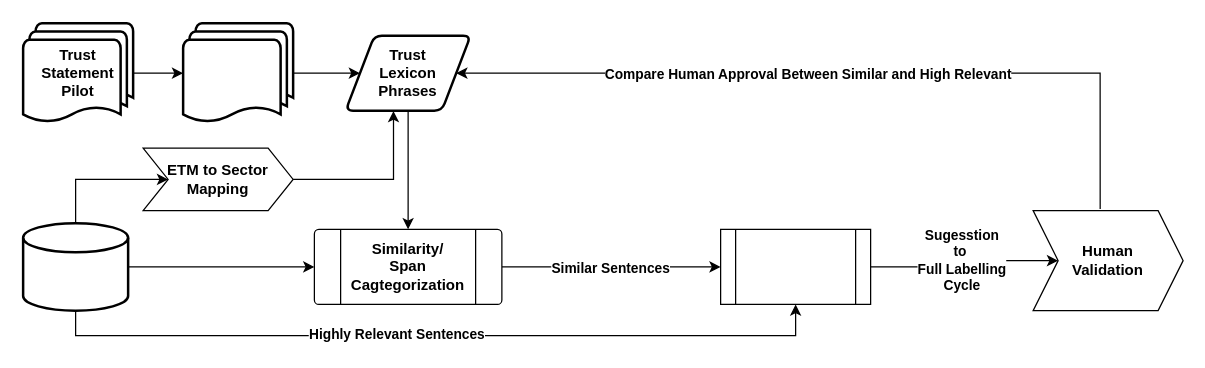
This 1205x368 diagram has some shape labels left out. Here are the shapes that lost their labels. From the top down, the centre of each, then its label:
At point 237,72: "Trust BIO Pilot".
At point 75,266: "Sentence Level Relevnacy Table".
At point 795,266: "Extract Action Phrases".
